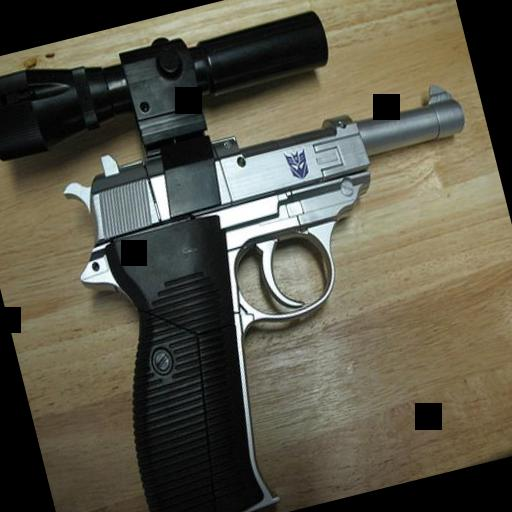Handgun: (51, 63, 512, 512)
